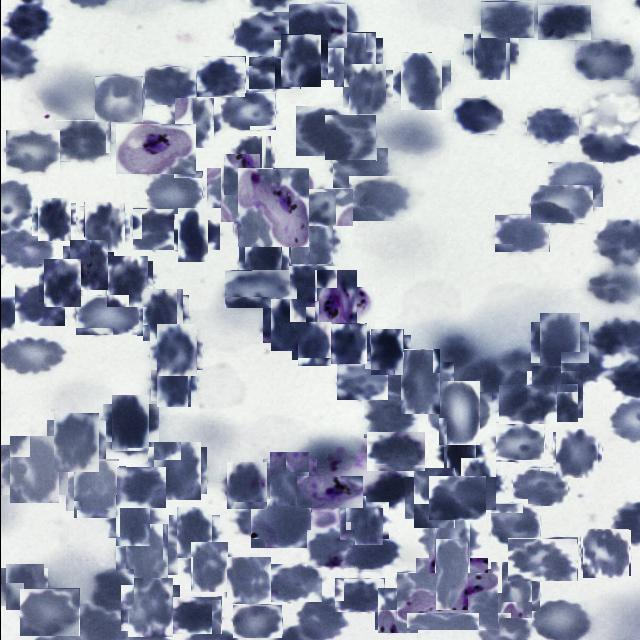red blood cell: (5, 441, 62, 499), (507, 538, 577, 582), (250, 498, 311, 548), (295, 106, 356, 156), (213, 161, 267, 215), (348, 176, 412, 221), (19, 588, 79, 636), (432, 386, 485, 439), (150, 444, 203, 497), (49, 416, 102, 469), (68, 462, 122, 514), (120, 528, 172, 580), (124, 582, 176, 634), (425, 548, 477, 600), (394, 356, 446, 408), (528, 369, 580, 420), (408, 473, 459, 524), (224, 269, 290, 308), (75, 295, 139, 335), (288, 4, 346, 48), (428, 476, 485, 520), (396, 56, 446, 106), (424, 518, 474, 568), (286, 220, 336, 270), (534, 318, 584, 368), (547, 162, 602, 207), (233, 12, 289, 56), (574, 39, 634, 80), (329, 34, 378, 84), (146, 171, 202, 214), (5, 130, 59, 174), (366, 431, 425, 471), (530, 185, 592, 223), (486, 566, 535, 614), (324, 116, 375, 162), (55, 120, 110, 162), (581, 529, 629, 577), (363, 396, 417, 438), (498, 385, 556, 424), (106, 399, 154, 446), (276, 37, 323, 84), (138, 292, 186, 338), (94, 76, 142, 122), (14, 282, 64, 326), (331, 148, 386, 188), (512, 467, 568, 506), (266, 563, 322, 602), (296, 188, 353, 226), (80, 203, 126, 250), (490, 503, 540, 546), (468, 30, 514, 76), (152, 327, 198, 373), (104, 259, 150, 305), (225, 557, 271, 603), (266, 456, 312, 502), (220, 92, 275, 130), (494, 214, 549, 252), (554, 431, 600, 476), (144, 66, 196, 105), (171, 100, 216, 145), (336, 362, 389, 400), (495, 421, 544, 462), (196, 56, 245, 97), (116, 467, 165, 508), (480, 1, 534, 38), (224, 463, 268, 508), (3, 2, 52, 42), (170, 596, 221, 634), (343, 538, 400, 572), (187, 545, 231, 589), (240, 240, 284, 284), (345, 67, 389, 111), (456, 462, 500, 506), (266, 303, 310, 347), (172, 511, 215, 555), (89, 569, 133, 612), (375, 588, 418, 632), (526, 108, 578, 144), (537, 5, 590, 40), (111, 499, 154, 542), (365, 469, 412, 508), (306, 530, 354, 568), (342, 500, 385, 542), (41, 262, 84, 304), (453, 98, 502, 134), (132, 208, 174, 250), (170, 214, 212, 256), (2, 566, 44, 608), (248, 56, 300, 89), (334, 578, 384, 612), (232, 604, 282, 638), (232, 138, 272, 179), (153, 364, 193, 404), (366, 332, 406, 372), (285, 264, 336, 295), (439, 433, 479, 472), (294, 324, 333, 363), (328, 323, 367, 362), (34, 200, 72, 238), (560, 352, 605, 384)
ring: (66, 242, 110, 288)
trophozoite: (396, 572, 498, 630), (234, 170, 310, 246), (115, 124, 195, 174), (305, 278, 365, 338), (296, 476, 362, 508)
